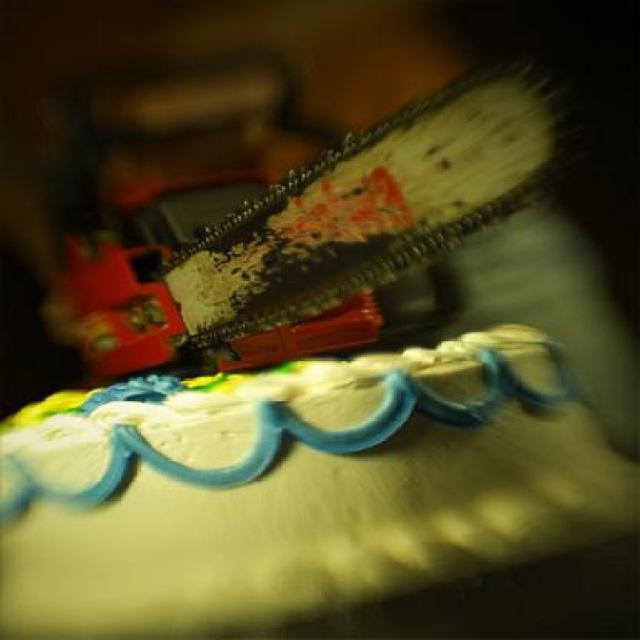Chainsaw: (31, 48, 580, 380)
